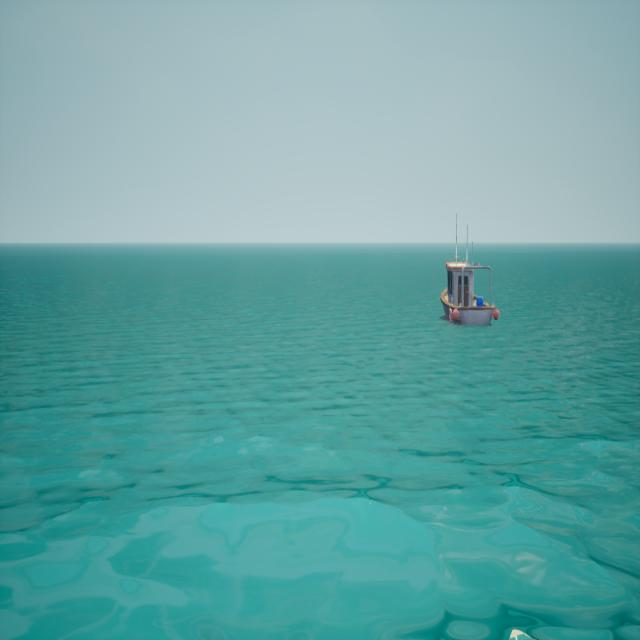ship: (436, 208, 503, 337)
